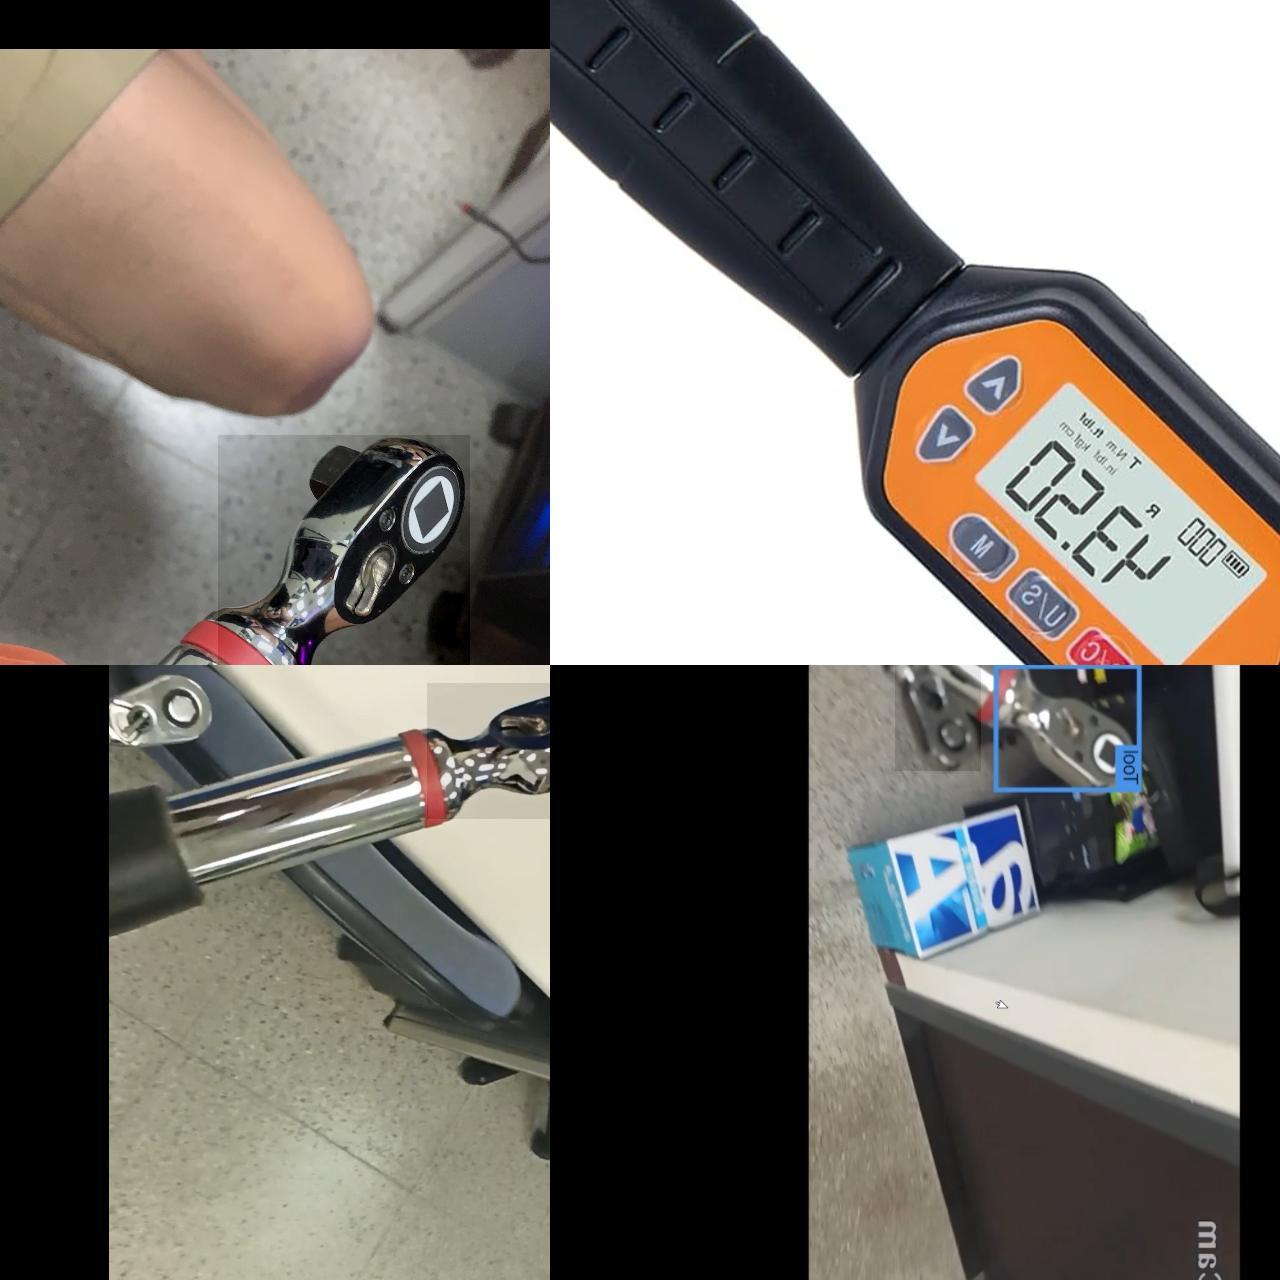Tool: (217, 435, 469, 665), (425, 683, 550, 819), (894, 665, 980, 771), (108, 674, 215, 744)
